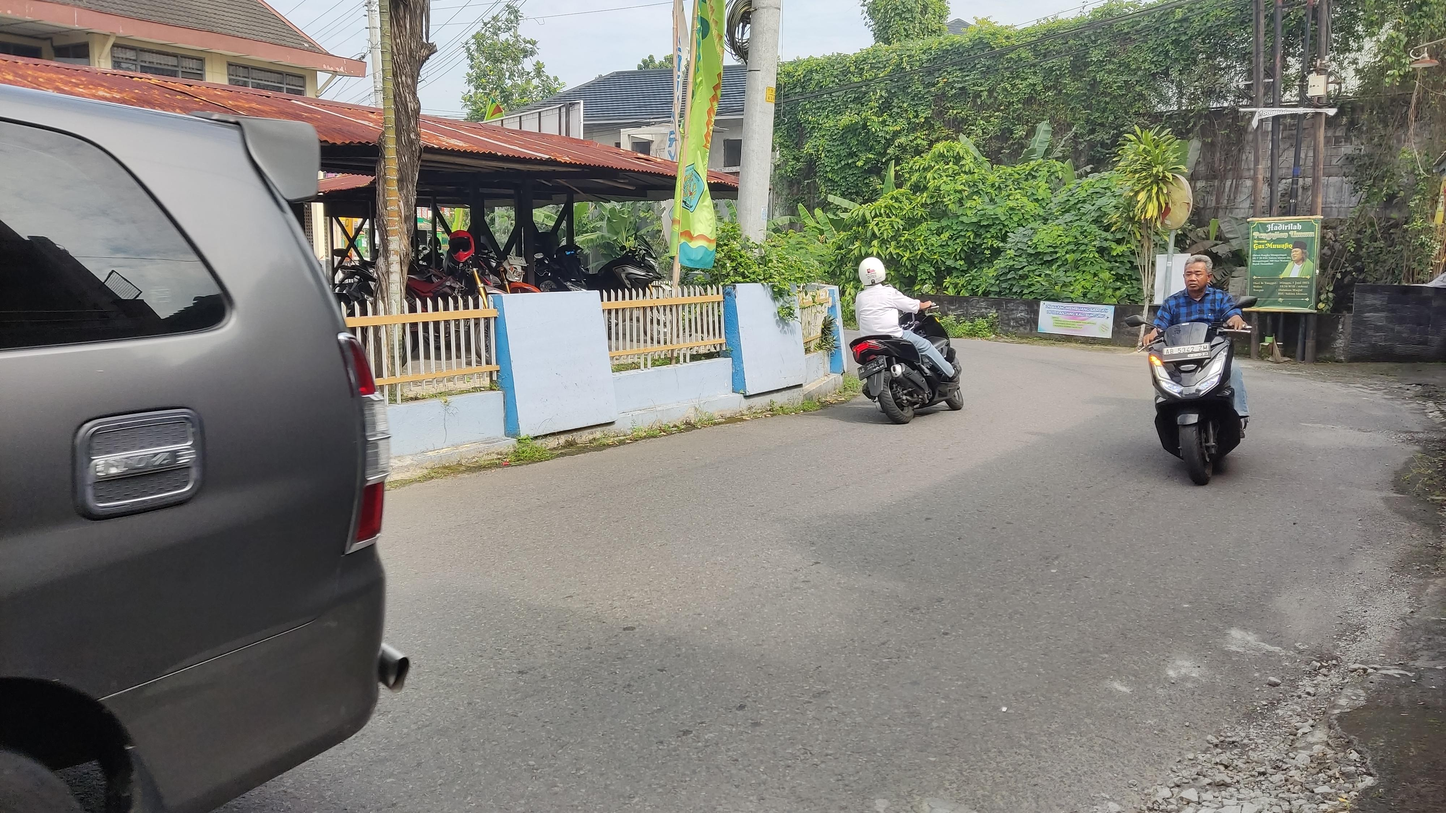helm: (853, 252, 893, 294)
nohelm: (1174, 251, 1218, 302)
riding: (1118, 246, 1283, 494), (837, 246, 974, 429)
